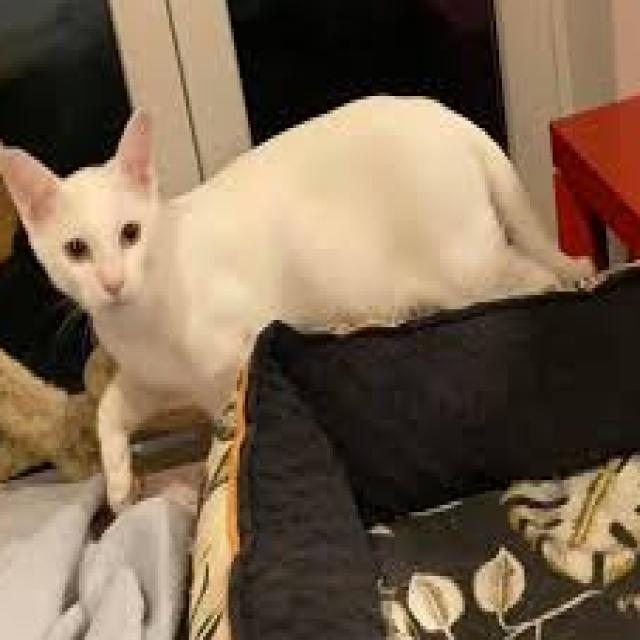Khao Manee: (0, 85, 595, 519)
